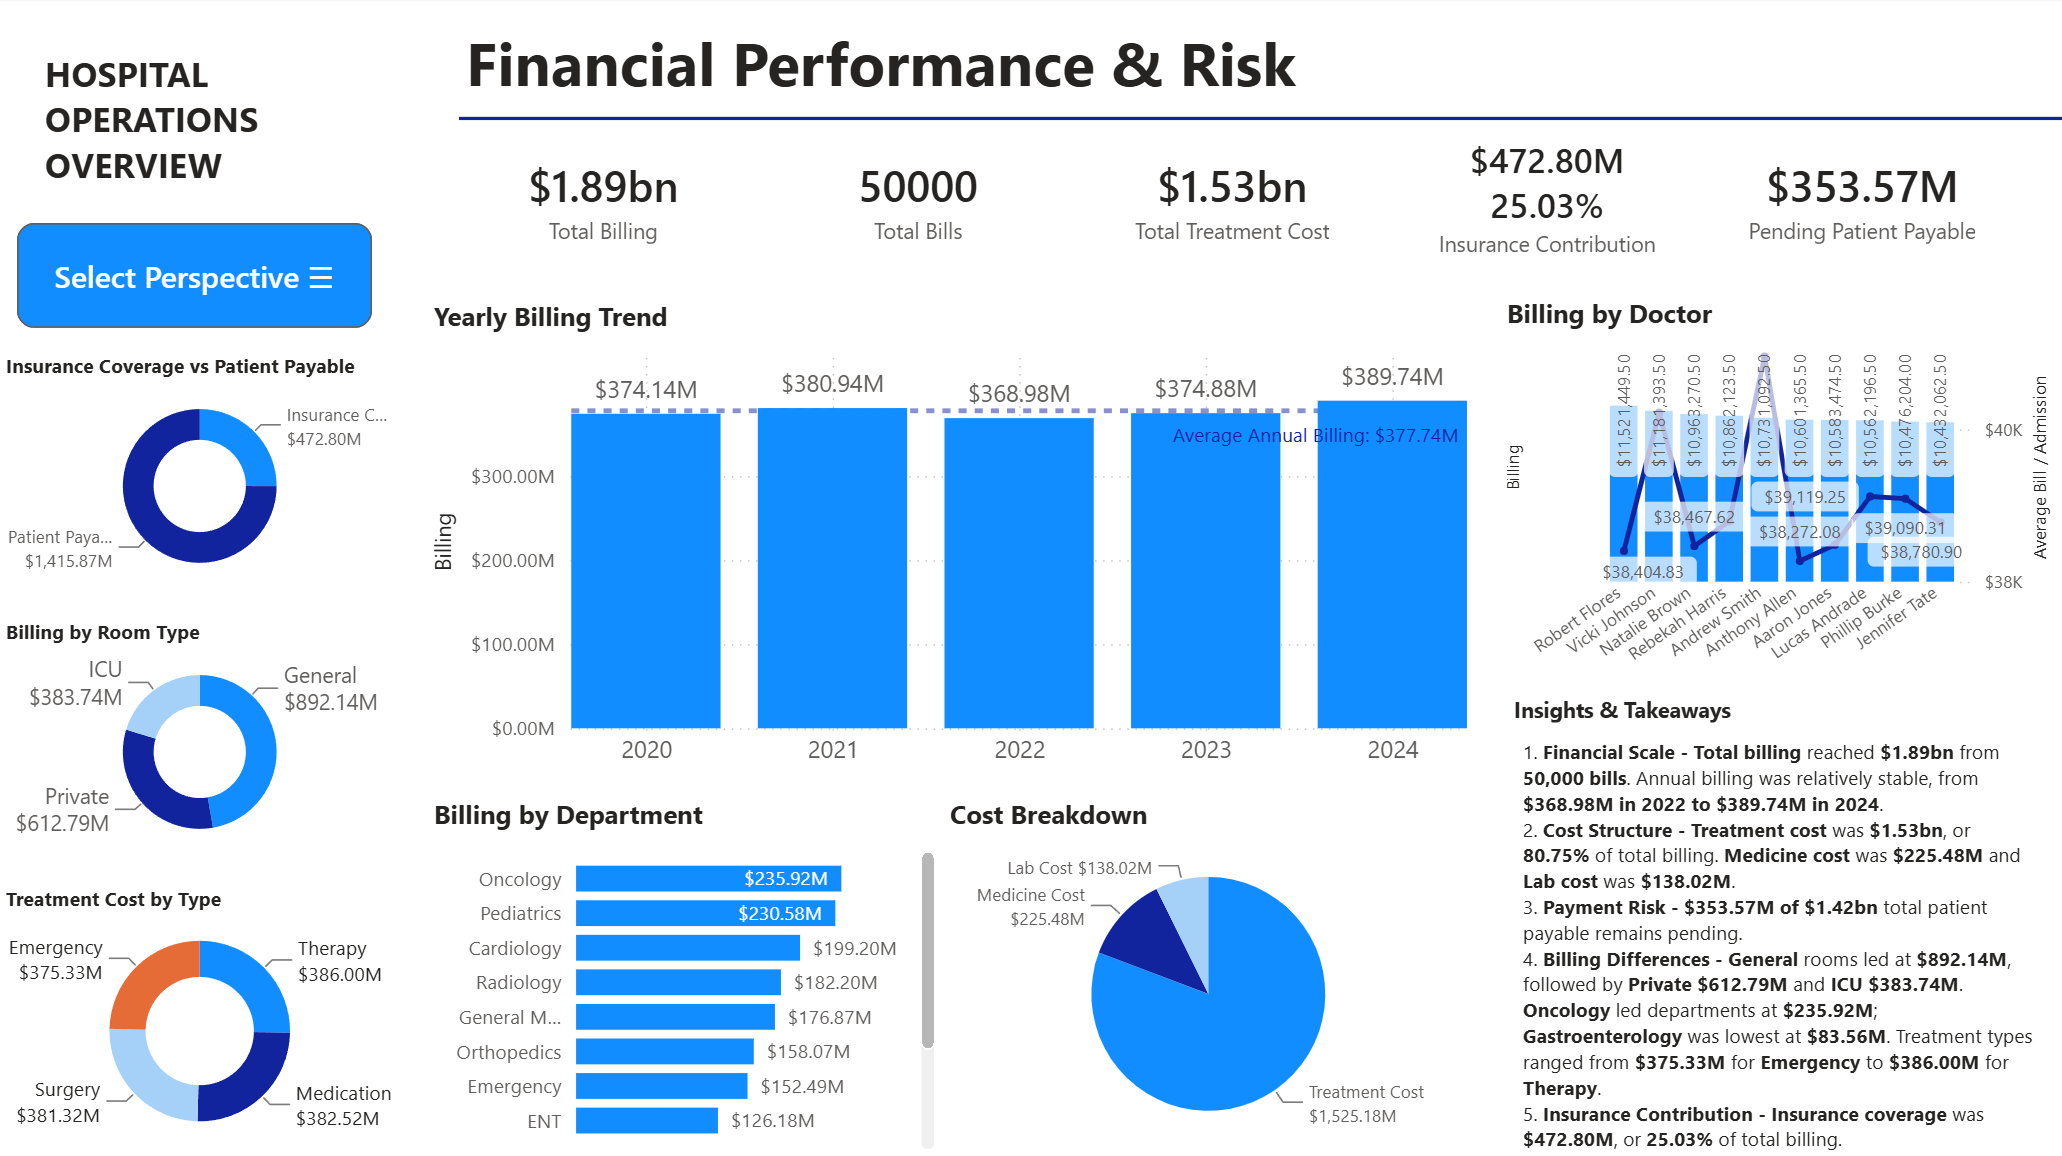

What the dashboard file says about the page in this screenshot:
{"tool":"powerbi","page":{"name":"Page 4 - Financial Performance & Risk","canvas":[1280,720],"ordinal":3},"visuals":[{"type":"shape","box":[930.3,425,350,295.2],"z":0},{"type":"shape","box":[265,0,1000,180],"z":1000},{"type":"shape","box":[0,0,250,720],"z":2000},{"type":"textbox","box":[24,28,195,100],"z":3000},{"type":"lineClusteredColumnComboChart","title":"Billing by Doctor","fields":{"Category":["Doctors.doctor_name"],"Y":["Measures (2).Total Billing"],"Y2":["Measures (2).Average Bill / Admission"]},"box":[930.3,185.1,350,240],"z":4000},{"type":"donutChart","title":"Billing by Room Type","fields":{"Category":["Admissions.room_type"],"Y":["Measures (2).Total Billing"]},"box":[0,385,250,150],"z":5000},{"type":"cardVisual","fields":{"Data":["Measures (2).Total Billing"]},"box":[285,80,180,90],"z":6000},{"type":"cardVisual","fields":{"Data":["Measures (2).Total Bills"]},"box":[480,80,180,90],"z":7000},{"type":"cardVisual","fields":{"Data":["Measures (2).Total Treatment Cost"]},"box":[675,80,180,90],"z":8000},{"type":"cardVisual","fields":{"Data":["Measures (2).Insurance Coverage KPI"]},"box":[870,80,180,90],"z":9000},{"type":"cardVisual","fields":{"Data":["Measures (2).Pending Patient Payable"]},"box":[1065,80,180,90],"z":10000},{"type":"clusteredColumnChart","title":"Yearly Billing Trend","fields":{"Category":["Calendar.year"],"Y":["Measures (2).Total Billing"]},"box":[265,187,650,300],"z":11000},{"type":"clusteredBarChart","title":"Billing by Department","fields":{"Category":["Departments.department_name"],"Y":["Measures (2).Total Billing"]},"box":[265,496,320,223.2],"z":12000},{"type":"textbox","box":[940,453.9,330.2,266.9],"z":13000},{"type":"shape","box":[285.4,70,995.8,10.5],"z":14000},{"type":"textbox","box":[285,10,960,60],"z":15000},{"type":"donutChart","title":"Treatment Cost by Type","fields":{"Category":["Treatment.treatment_type"],"Y":["Measures (2).Total Treatment Cost"]},"box":[0,550,250,170],"z":16000},{"type":"donutChart","title":"Insurance Coverage vs Patient Payable","fields":{"Y":["Measures (2).Total Insurance Coverage","Measures (2).Total Patient Payable"]},"box":[0,220,250,150],"z":17000},{"type":"pieChart","title":"Cost Breakdown","fields":{"Y":["Measures (2).Total Treatment Cost","Sum(Treatment.medicine_cost)","Sum(Treatment.lab_cost)"]},"box":[585,496,330,223],"z":18000},{"type":"textbox","box":[934.2,427.6,345.8,27.3],"z":19000},{"type":"actionButton","title":"Perspective Button","box":[12,140,220,65],"z":20000}]}

Visuals, with their boxes in screenshot pixels (x1, y1, x2, y2), scaled from the page's 1280x720 canvas onto the 2062x1156 screenshot:
shape: rect(1499, 682, 2061, 1155)
shape: rect(427, 0, 2038, 289)
shape: rect(0, 0, 403, 1155)
textbox: rect(39, 45, 353, 206)
"Billing by Doctor" lineClusteredColumnComboChart: rect(1499, 297, 2061, 683)
"Billing by Room Type" donutChart: rect(0, 618, 403, 859)
cardVisual - Measures (2).Total Billing: rect(459, 128, 749, 273)
cardVisual - Measures (2).Total Bills: rect(773, 128, 1063, 273)
cardVisual - Measures (2).Total Treatment Cost: rect(1087, 128, 1377, 273)
cardVisual - Measures (2).Insurance Coverage KPI: rect(1402, 128, 1691, 273)
cardVisual - Measures (2).Pending Patient Payable: rect(1716, 128, 2006, 273)
"Yearly Billing Trend" clusteredColumnChart: rect(427, 300, 1474, 782)
"Billing by Department" clusteredBarChart: rect(427, 796, 942, 1155)
textbox: rect(1514, 729, 2046, 1155)
shape: rect(460, 112, 2061, 129)
textbox: rect(459, 16, 2006, 112)
"Treatment Cost by Type" donutChart: rect(0, 883, 403, 1155)
"Insurance Coverage vs Patient Payable" donutChart: rect(0, 353, 403, 594)
"Cost Breakdown" pieChart: rect(942, 796, 1474, 1154)
textbox: rect(1505, 687, 2061, 730)
"Perspective Button" actionButton: rect(19, 225, 374, 329)
